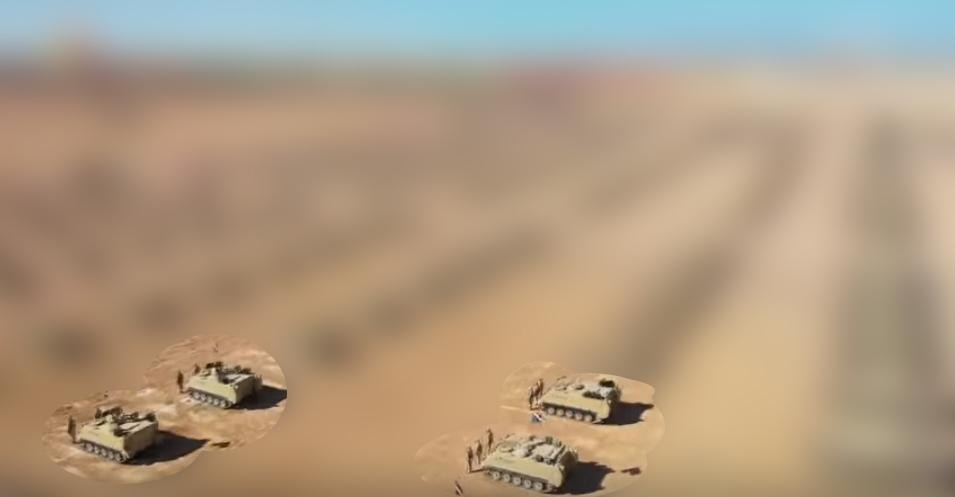armored_car: (477, 436, 584, 496), (71, 402, 162, 466), (530, 373, 624, 427), (182, 363, 266, 412)
